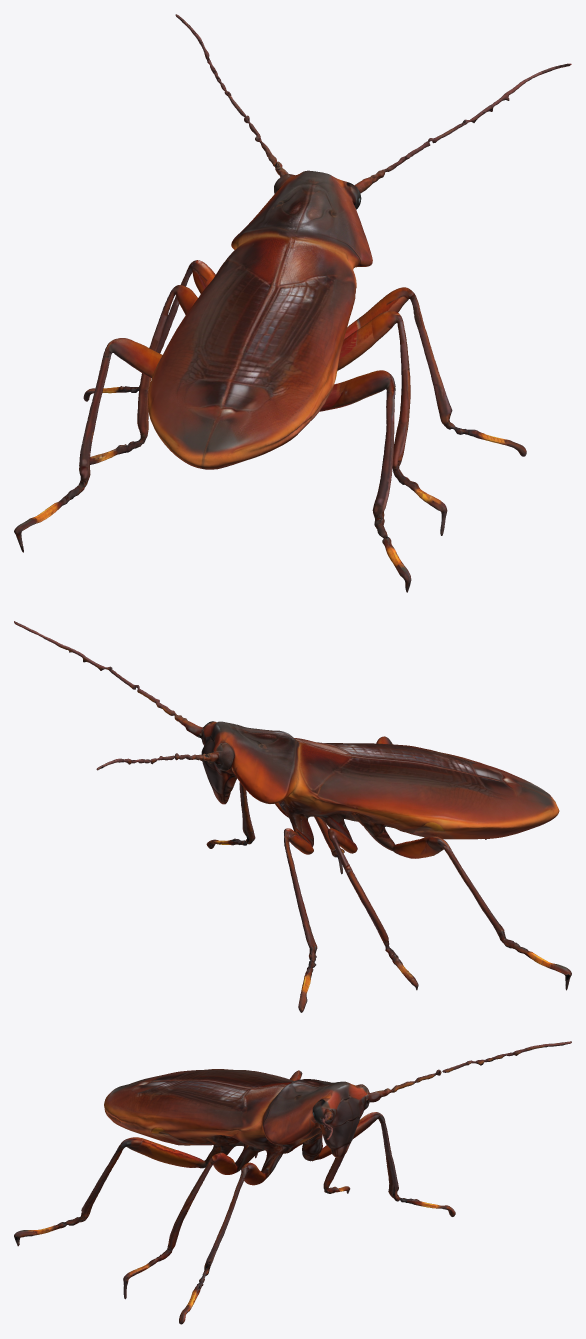
Rendered from cockroach_candidate_american_1k.glb.
The picture shows the model from 3 angles, top to bottom: view 1: azimuth 30°, elevation 25°; view 2: azimuth 150°, elevation 25°; view 3: azimuth 270°, elevation 25°; orthographic projection. The views are drawn at different scales.
Parts seen in each view (by area): view 1: Object_4, Object_5; view 2: Object_4, Object_5; view 3: Object_4, Object_5.
Boxes of the visible parts, x1,y1,x2,y2 form: Object_4: (15,14,571,592); Object_5: (14,14,565,578); Object_4: (14,621,571,1012); Object_5: (42,635,571,1003); Object_4: (14,1041,570,1324); Object_5: (15,1041,571,1322).
Bounding box in the file's own units: 2.31 × 1.18 × 2.28.
1 material, 1 textured.
